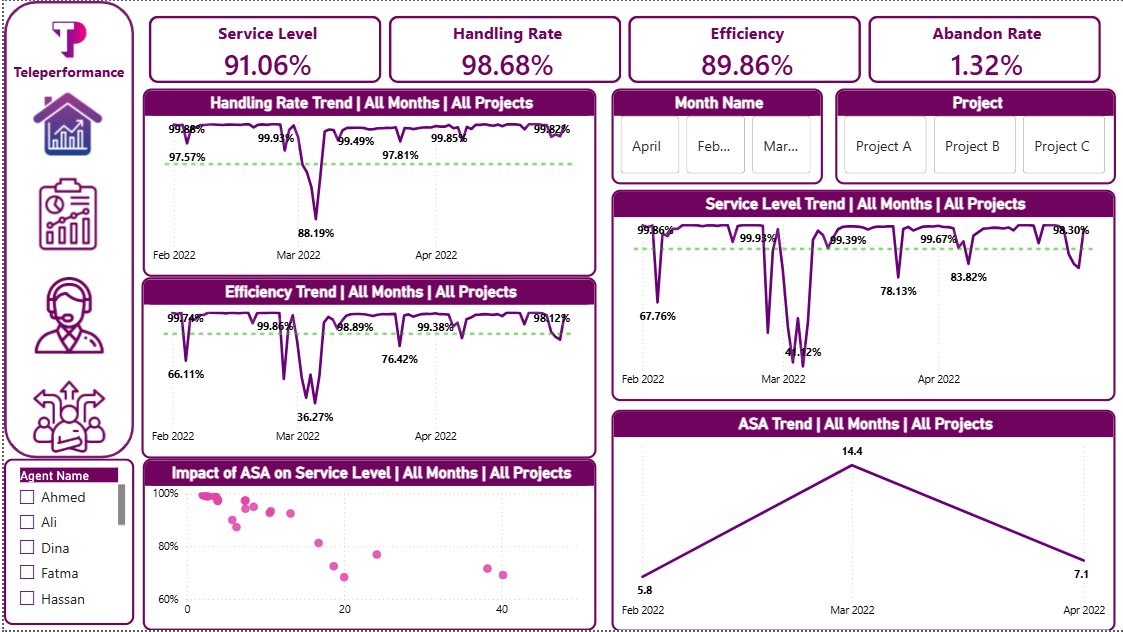

The dashboard page shown, as its layout file describes it:
{"tool":"powerbi","page":{"name":"Service Performance","canvas":[1280,720],"ordinal":2},"visuals":[{"type":"shape","box":[0,0,148.6,522.9],"z":0},{"type":"image","box":[4.3,11.4,138.6,58.6],"z":1000},{"type":"cardVisual","title":"dfvdv","fields":{"Data":["Sallah Call Center.Service Level","Sallah Call Center.Handling Rate","Sallah Call Center.Efficiency","Sallah Call Center.Abandon Rate"]},"box":[148.2,0,1122.5,111.1],"z":2000},{"type":"actionButton","box":[0,41.4,148.6,77.1],"z":3000},{"type":"lineChart","fields":{"Category":["Calendar.Date.Variation.Date Hierarchy.Year","Calendar.Date.Variation.Date Hierarchy.Month","Calendar.Date.Variation.Date Hierarchy.Day"],"Y":["Sallah Call Center.Handling Rate"]},"box":[159.2,100.2,518.7,215.4],"z":4000},{"type":"lineChart","fields":{"Y":["Sallah Call Center.Service Level"],"Category":["Calendar.Date.Variation.Date Hierarchy.Year","Calendar.Date.Variation.Date Hierarchy.Month","Calendar.Date.Variation.Date Hierarchy.Day"]},"box":[694.3,215.4,576.3,241.5],"z":5000},{"type":"advancedSlicerVisual","fields":{"Values":["Sallah Call Center.Project"]},"box":[949.6,100.2,321.1,109.8],"z":6000},{"type":"advancedSlicerVisual","fields":{"Values":["Calendar.Month Name"]},"box":[694.3,100.2,241.5,109.8],"z":7000},{"type":"slicer","fields":{"Values":["Sallah Call Center.Agent Name"]},"box":[0,522.9,148.6,190],"z":8000},{"type":"lineChart","fields":{"Y":["Sallah Call Center.Efficiency"],"Category":["Calendar.Date.Variation.Date Hierarchy.Year","Calendar.Date.Variation.Date Hierarchy.Month","Calendar.Date.Variation.Date Hierarchy.Day"]},"box":[157.1,315.7,520,207.1],"z":9000},{"type":"lineChart","fields":{"Y":["Avg(Sallah Call Center.ASA)"],"Category":["Calendar.Date.Variation.Date Hierarchy.Year","Calendar.Date.Variation.Date Hierarchy.Month","Calendar.Date.Variation.Date Hierarchy.Day"]},"box":[694.3,466.6,576.3,253.9],"z":10000},{"type":"scatterChart","fields":{"X":["Avg(Sallah Call Center.ASA)"],"Y":["Sallah Call Center.Service Level"],"Category":["Calendar.Date.Variation.Date Hierarchy.Day"]},"box":[158.6,522.9,518.6,197.1],"z":11000},{"type":"actionButton","box":[22.9,92.9,100,95.7],"z":12000},{"type":"actionButton","box":[22.9,195.7,100,95.7],"z":13000},{"type":"actionButton","box":[24.3,427.1,100,95.7],"z":14000},{"type":"actionButton","box":[24.3,311.4,100,95.7],"z":15000}]}

Visuals, with their boxes in screenshot pixels (x1, y1, x2, y2), scaled from the page's 1280x720 canvas onto the 1123x632 screenshot:
shape: 0 0 130 459
image: 4 10 125 61
"dfvdv" cardVisual: 130 0 1115 98
actionButton: 0 36 130 104
lineChart - Calendar.Date.Variation.Date Hierarchy.Year x Calendar.Date.Variation.Date Hierarchy.Month: 140 88 595 277
lineChart - Sallah Call Center.Service Level x Calendar.Date.Variation.Date Hierarchy.Year: 609 189 1115 401
advancedSlicerVisual - Sallah Call Center.Project: 833 88 1115 184
advancedSlicerVisual - Calendar.Month Name: 609 88 821 184
slicer - Sallah Call Center.Agent Name: 0 459 130 626
lineChart - Sallah Call Center.Efficiency x Calendar.Date.Variation.Date Hierarchy.Year: 138 277 594 459
lineChart - Avg(Sallah Call Center.ASA) x Calendar.Date.Variation.Date Hierarchy.Year: 609 410 1115 631
scatterChart - Avg(Sallah Call Center.ASA) x Sallah Call Center.Service Level: 139 459 594 631
actionButton: 20 82 108 166
actionButton: 20 172 108 256
actionButton: 21 375 109 459
actionButton: 21 273 109 357
